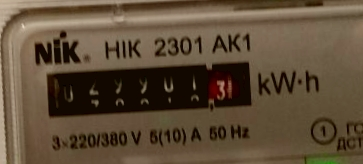0: (159, 68, 175, 94), (58, 80, 75, 102)
1: (186, 66, 199, 91)
2: (84, 73, 100, 96)
3: (212, 77, 228, 101)
9: (135, 71, 148, 95), (110, 72, 123, 93)
screen: (37, 52, 261, 127)
